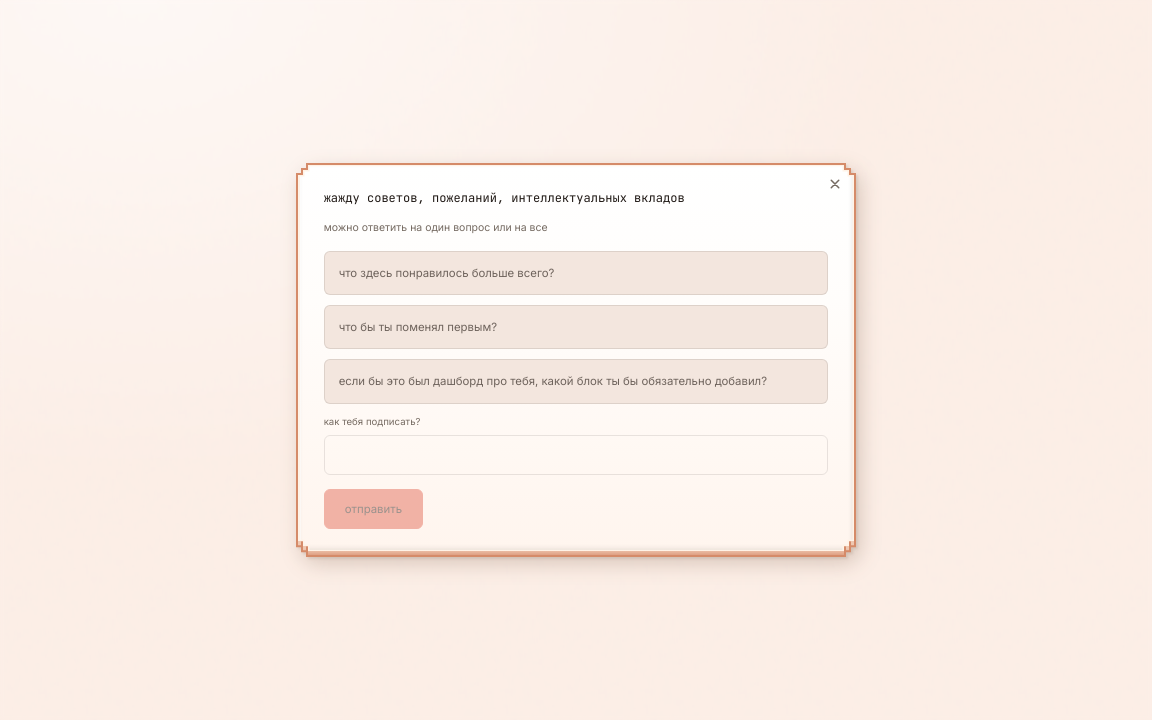
it: FeedbackModal — a note to the author (§5.19) › the error is shown inside the form and does NOT erase the input
Click the button "что здесь понравилось больше всего?" at (446, 273), box [324, 251, 828, 295]
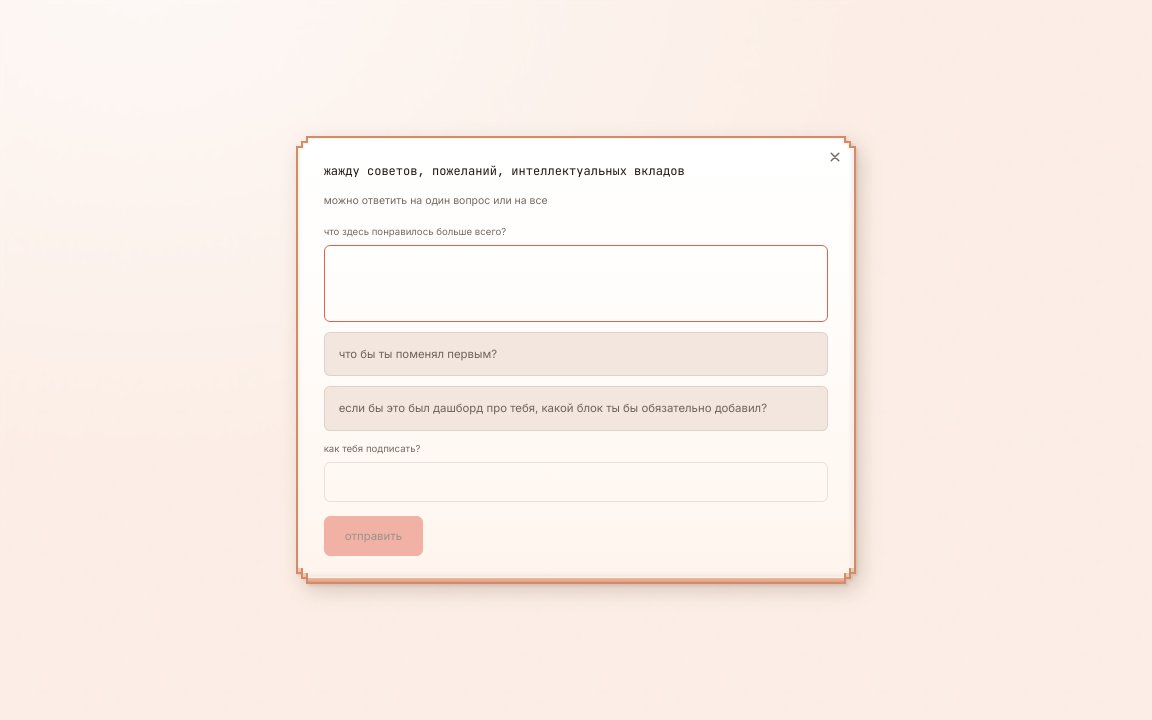
Type "очень длинный ответ про календарь" into the text box labelled "что здесь понравилось больше всего?" at (576, 284), box [324, 246, 828, 322]
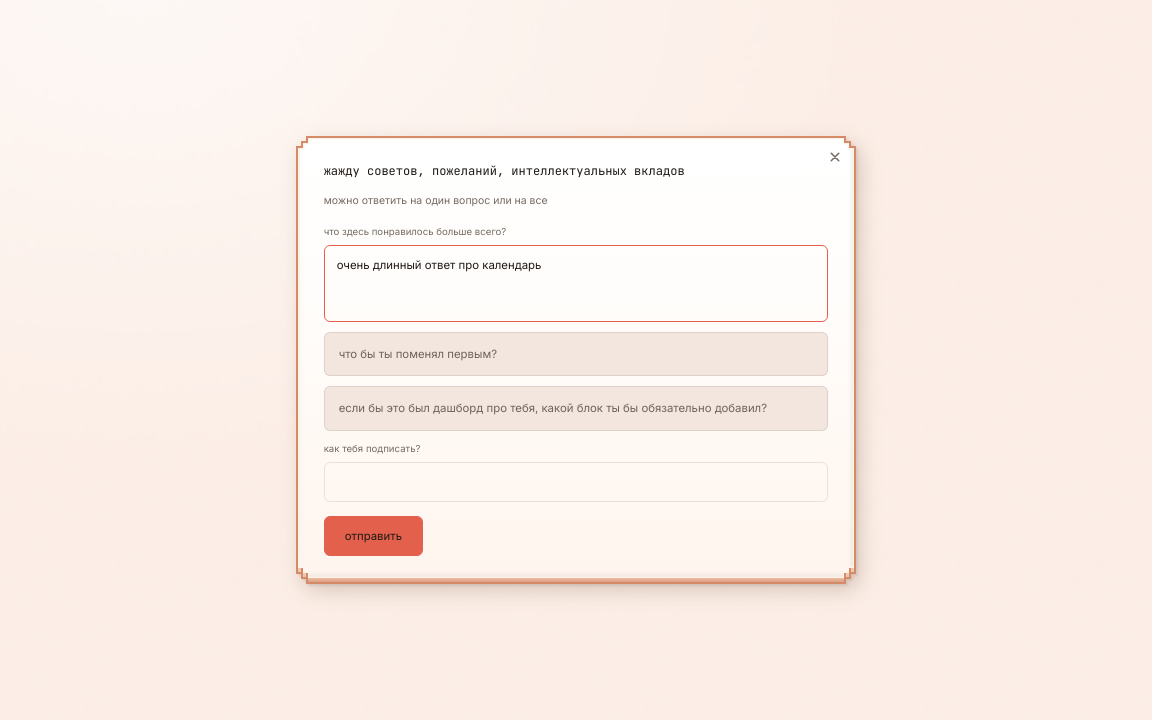
Click the button "отправить" at (373, 536), box [324, 516, 423, 556]
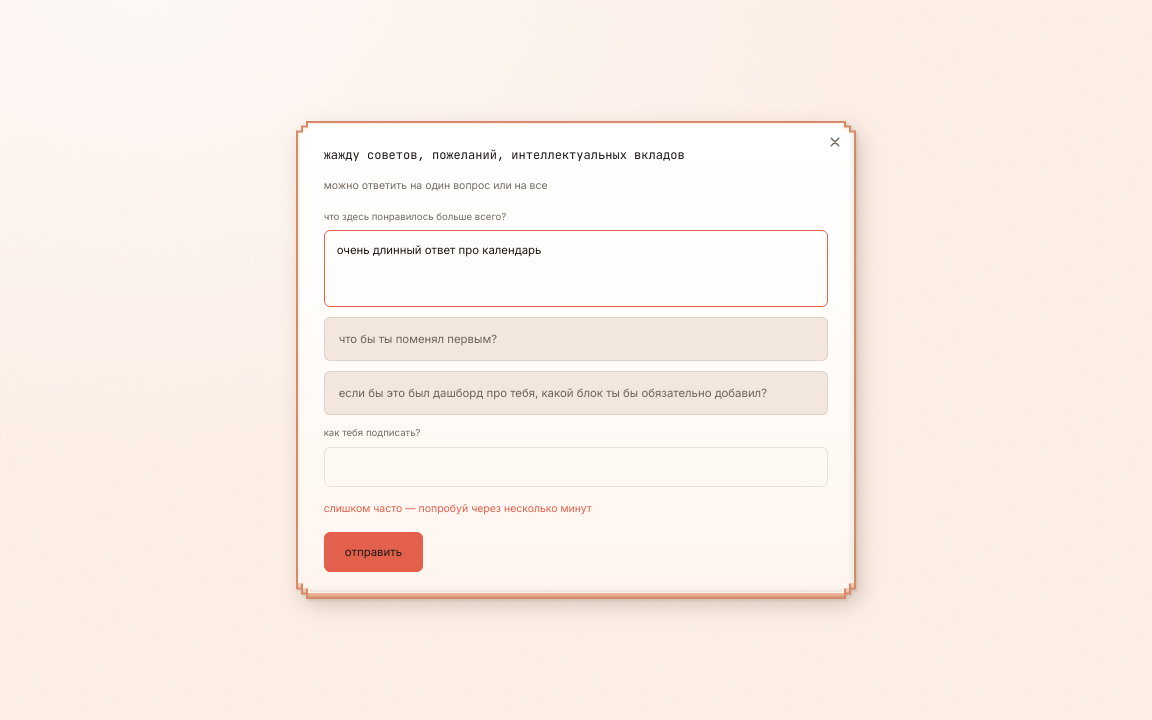
expect the button "отправить" is enabled: met, box [324, 532, 423, 572]
expect the message shows "слишком часто": met, box [324, 502, 592, 515]
